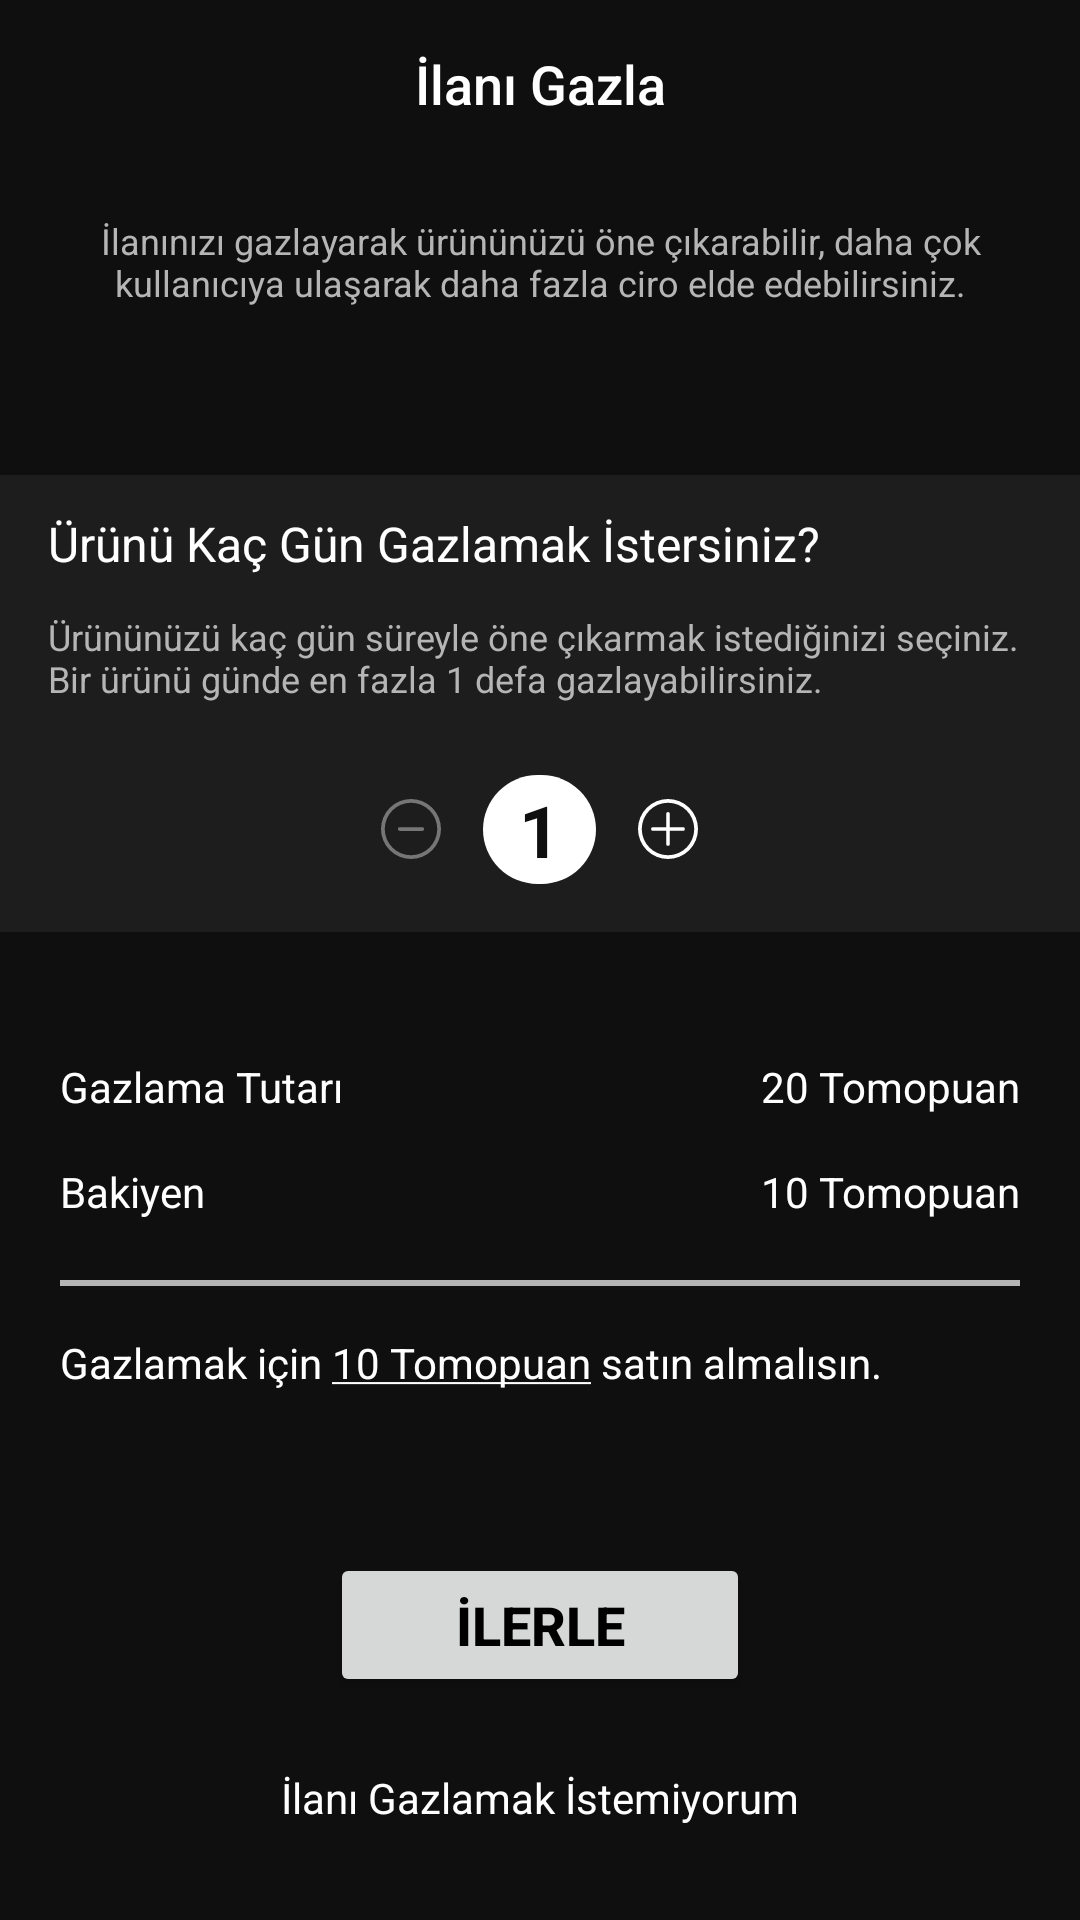

Screen size 1080*1920. Icon name, then its box in pixels as (x1, y1, x2, y2):
minus: (381, 799, 441, 859)
plus: (638, 799, 698, 859)
